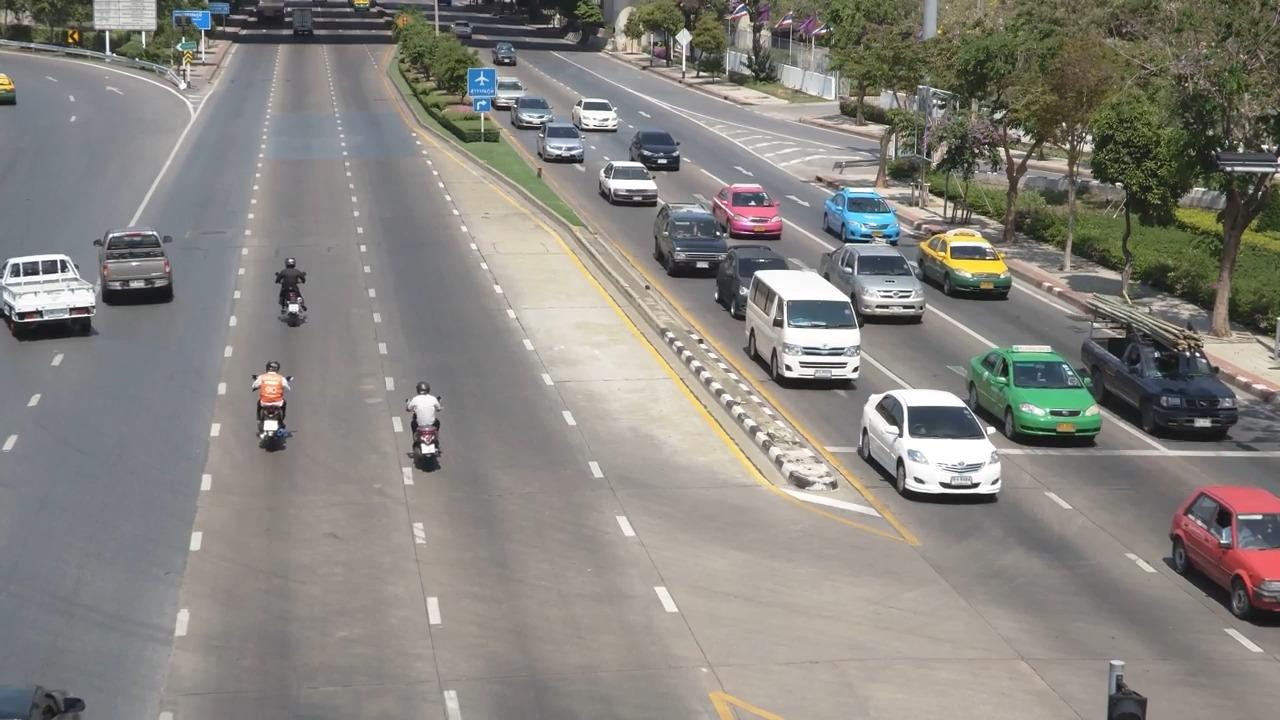CAR: (1114, 478, 1280, 633), (1082, 300, 1243, 433), (853, 376, 1013, 501), (968, 335, 1114, 452), (745, 261, 868, 388), (0, 246, 108, 366), (88, 216, 197, 314), (916, 218, 1013, 302), (834, 241, 931, 320), (651, 203, 739, 285), (814, 183, 908, 252), (708, 182, 787, 241), (599, 155, 660, 213), (629, 123, 697, 174), (535, 118, 589, 167), (516, 87, 558, 135), (574, 89, 622, 130)
MOTOR: (238, 352, 307, 462), (395, 378, 463, 484), (262, 244, 326, 338)
